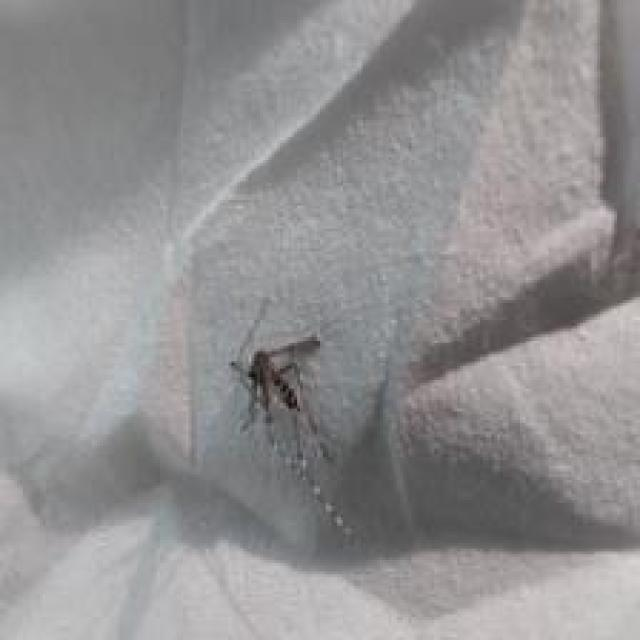Aedes albopictus: (229, 297, 357, 546)
